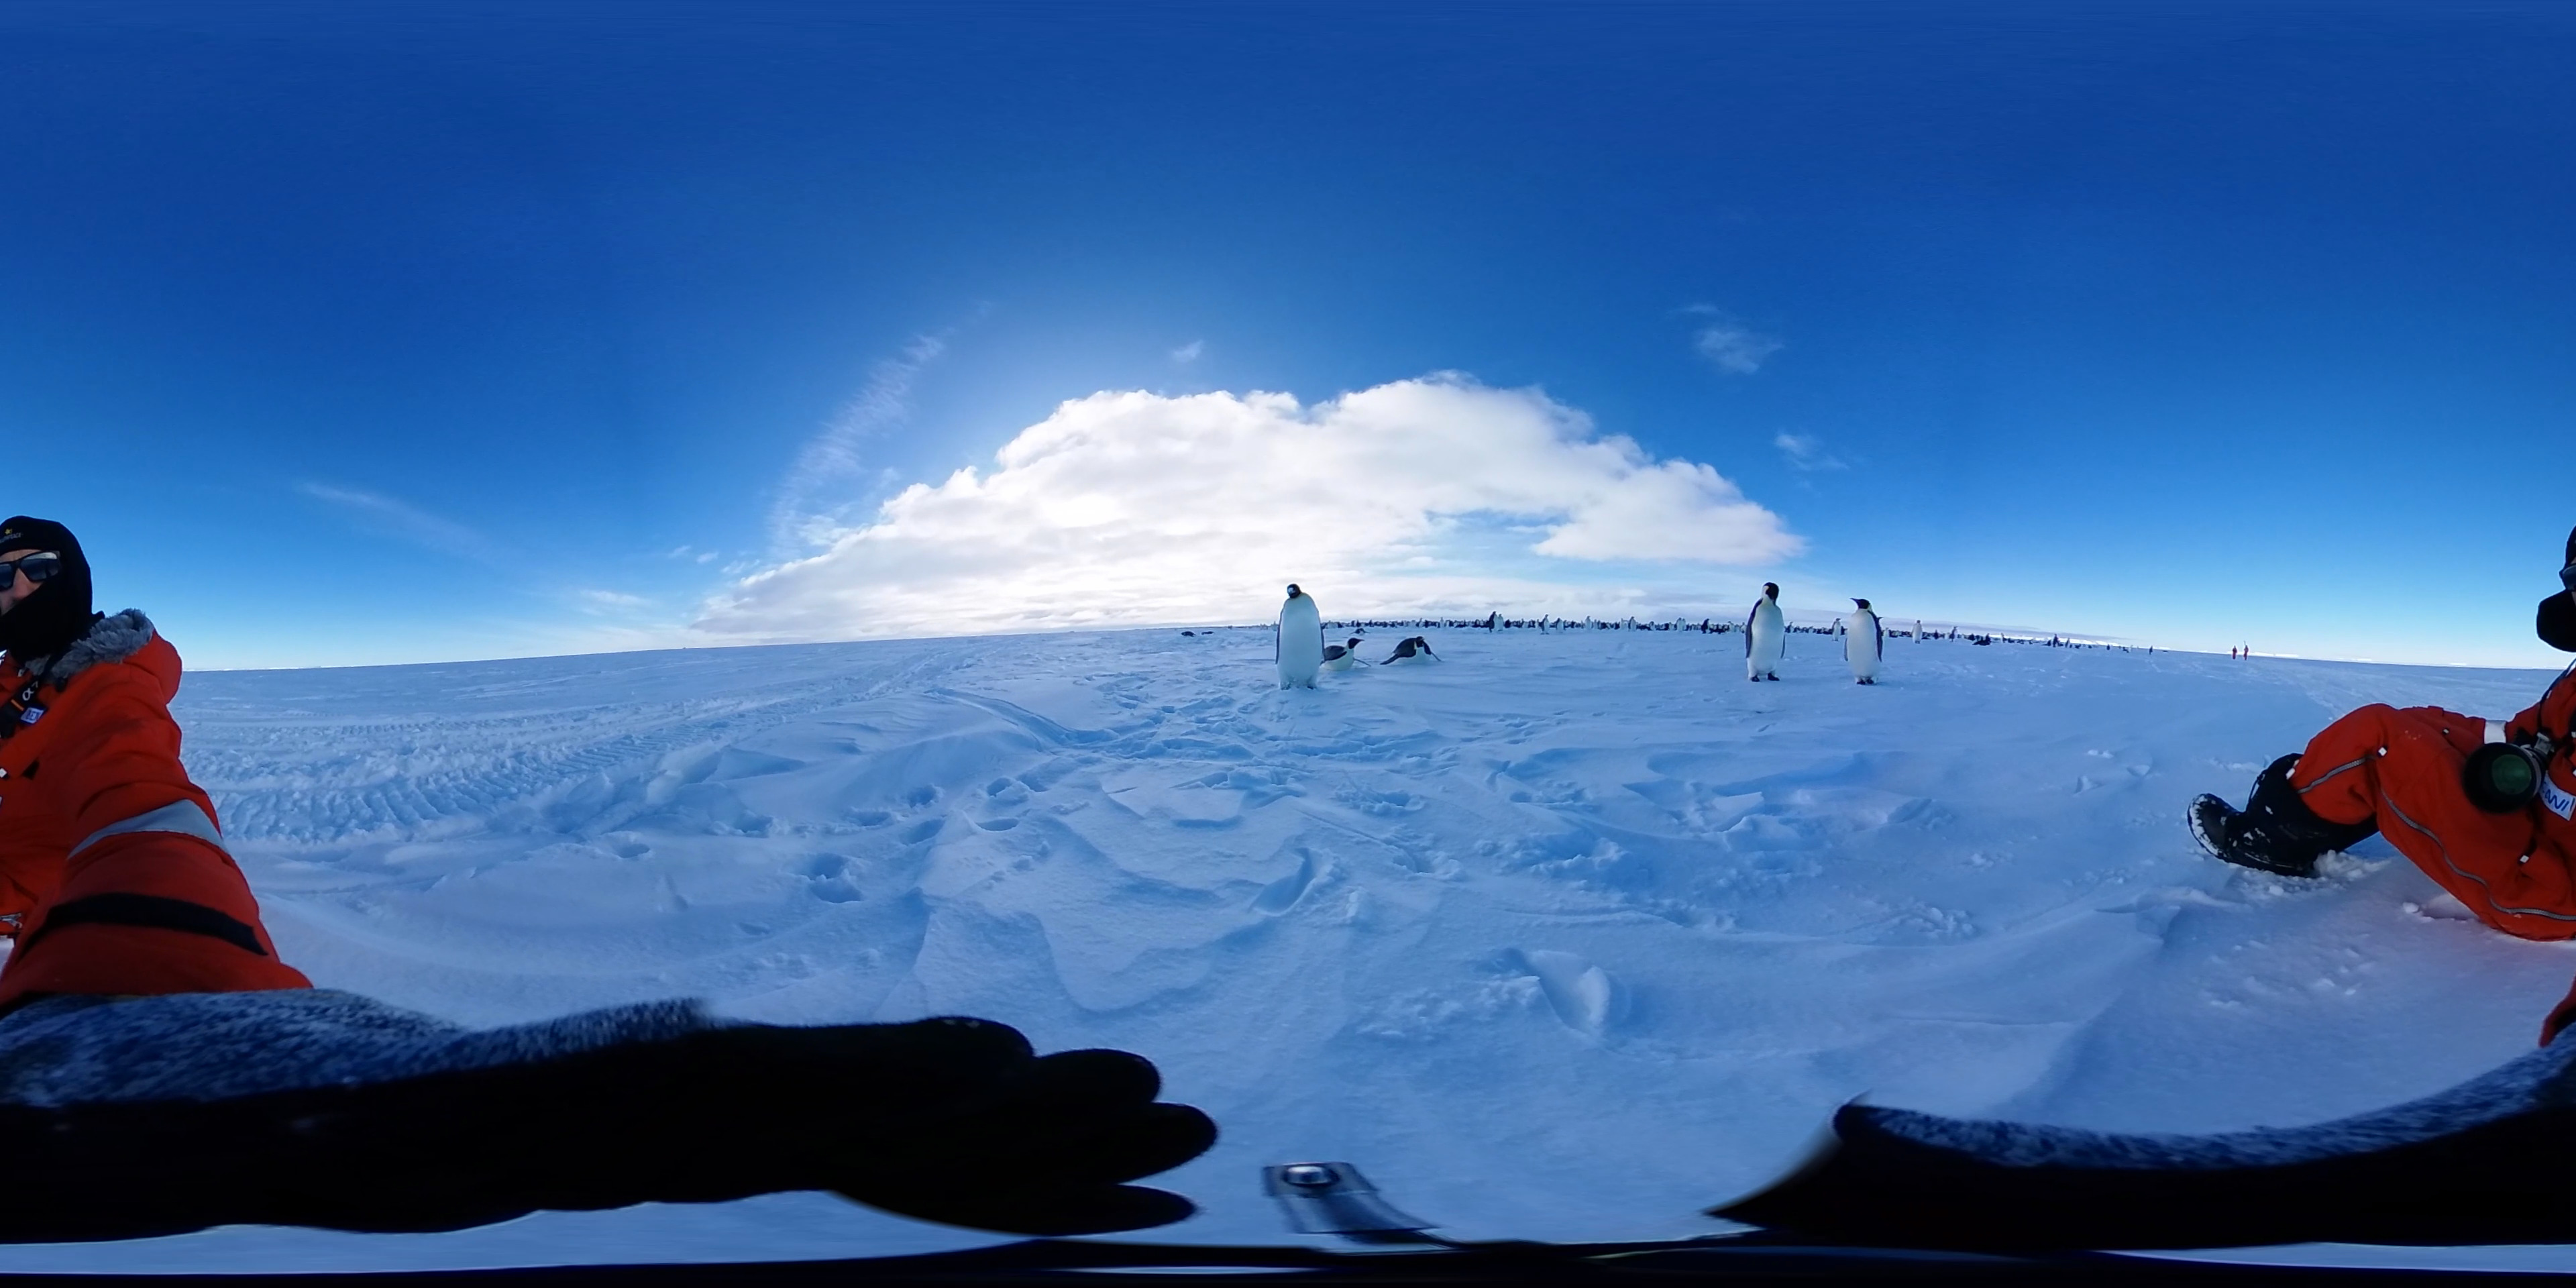adult_standing_penguin: (1276, 582, 1326, 693), (1746, 582, 1789, 687), (1843, 596, 1886, 685), (1907, 618, 1920, 644), (1830, 618, 1840, 644)
adult_toboggan_penguin: (1378, 636, 1441, 670), (1318, 634, 1368, 669)
researcher: (0, 513, 329, 1038), (2185, 521, 2576, 940)
